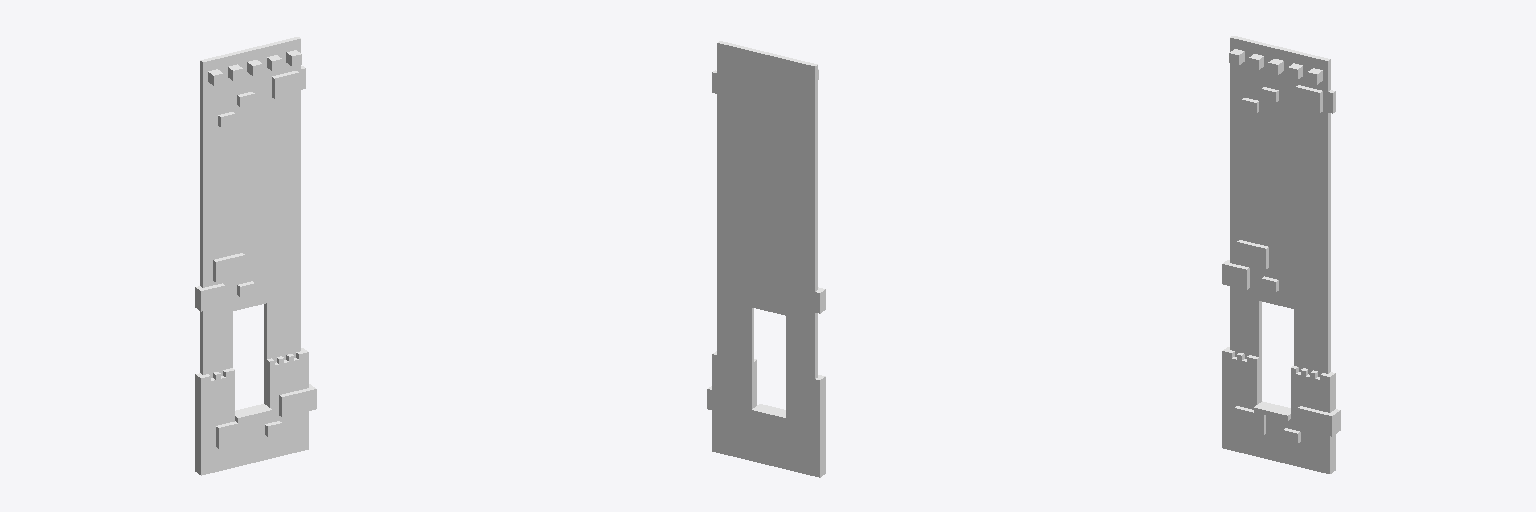
File: TallBuilding01-4.obj
3 renders of one model, left to right at view 1: azimuth 30°, elevation 25°; view 2: azimuth 150°, elevation 25°; view 3: azimuth 330°, elevation 25°, orthographic.
Parts seen in each view (by area): view 1: object 1; view 2: object 1; view 3: object 1.
Boxes of the visible parts, <box> form: object 1: <box>195,37,316,475</box>; object 1: <box>707,41,825,477</box>; object 1: <box>1222,36,1340,473</box>.
Size of the model in its own units: 2.3 by 8 by 0.3.